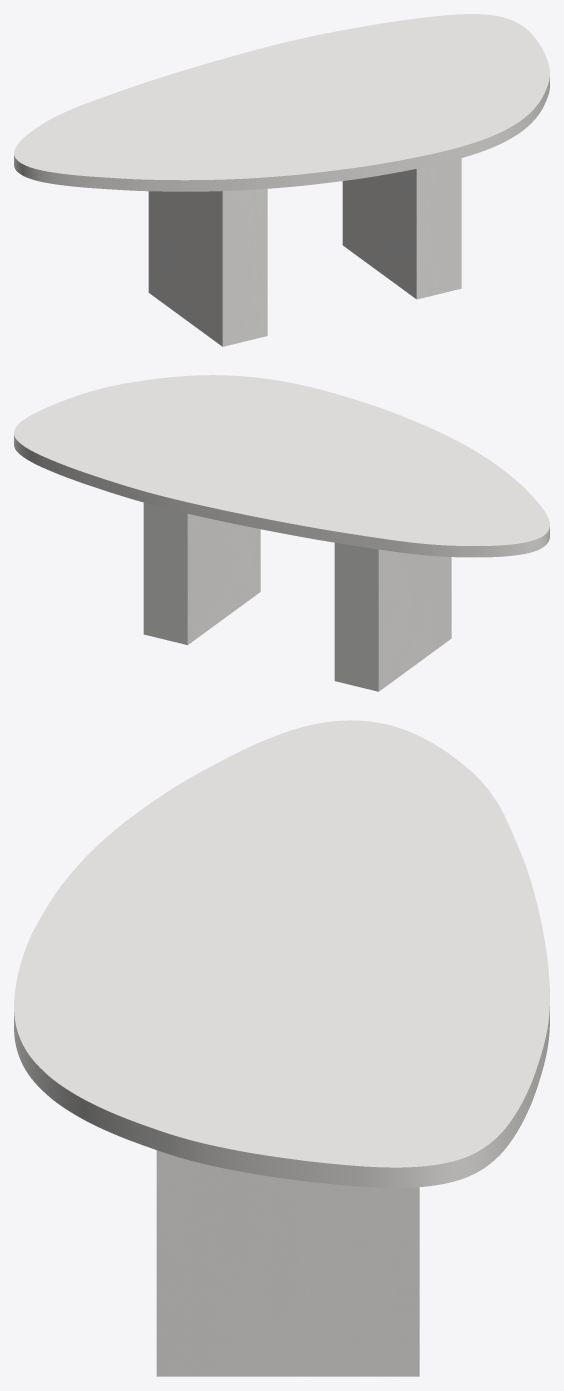
Rendered from purewhite_pebbletop_standard_ridge.glb.
The picture shows the model from 3 angles, top to bottom: view 1: azimuth 30°, elevation 25°; view 2: azimuth 150°, elevation 25°; view 3: azimuth 270°, elevation 25°; orthographic projection. The views are drawn at different scales.
Parts seen in each view (by area): view 1: standard_pebbletop, ridge; view 2: standard_pebbletop, ridge; view 3: standard_pebbletop, ridge.
Part boxes in pixels (x1=…): standard_pebbletop: x1=14, y1=14, x2=549, y2=191; ridge: x1=148, y1=158, x2=461, y2=346; standard_pebbletop: x1=14, y1=375, x2=549, y2=557; ridge: x1=143, y1=502, x2=451, y2=691; standard_pebbletop: x1=14, y1=720, x2=549, y2=1187; ridge: x1=156, y1=1150, x2=419, y2=1376.
Bounding box in the file's own units: 7.5 × 2.51 × 3.8.
Materials: 1 (1 with a texture image).
